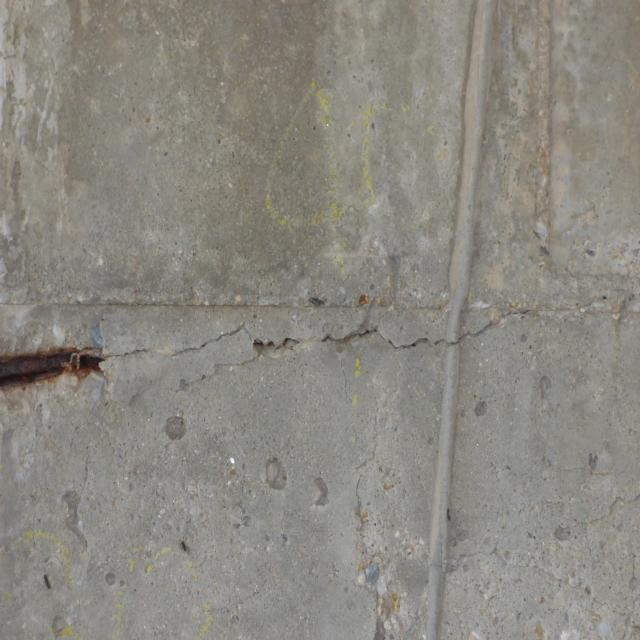corrosion: (0, 326, 120, 404)
